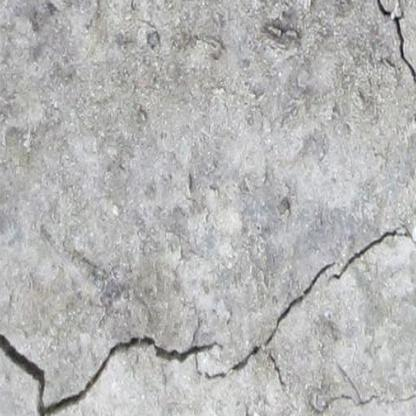Cracks: (201, 220, 416, 393), (0, 315, 218, 416), (357, 0, 416, 132), (307, 392, 384, 416), (391, 385, 416, 408)
